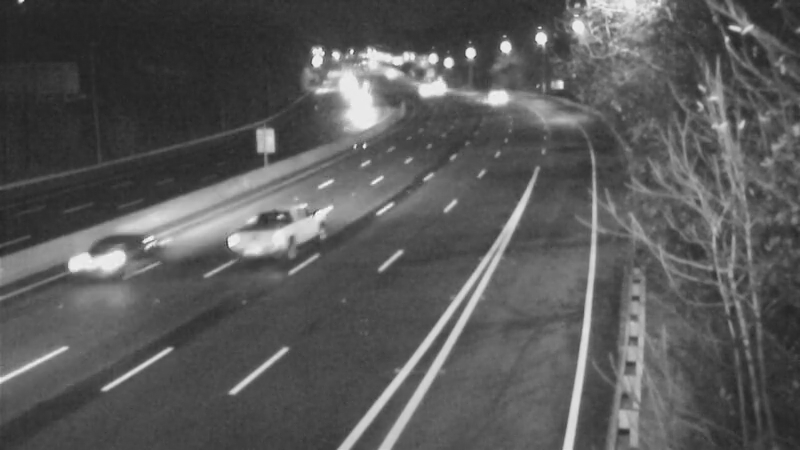vehicle: (233, 187, 313, 267), (55, 212, 135, 292), (399, 65, 449, 115), (468, 71, 518, 121), (336, 83, 386, 133)
